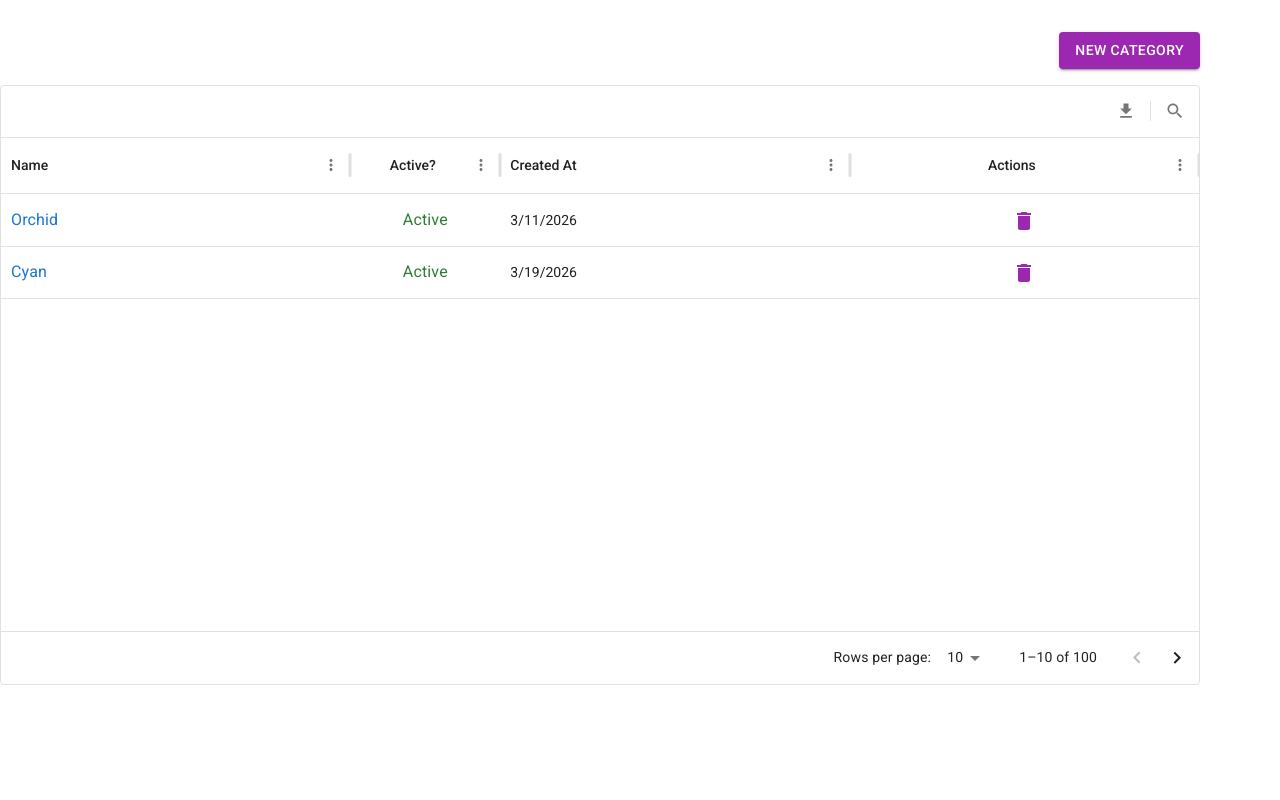
Test: CategoryList › should handle Delete Category error
Expected: the text "Orchid" is shown, [11,208,58,232]
Click the button with test id "delete-button" in the row of "Cyan": (1024,273) [1004,253,1044,293]
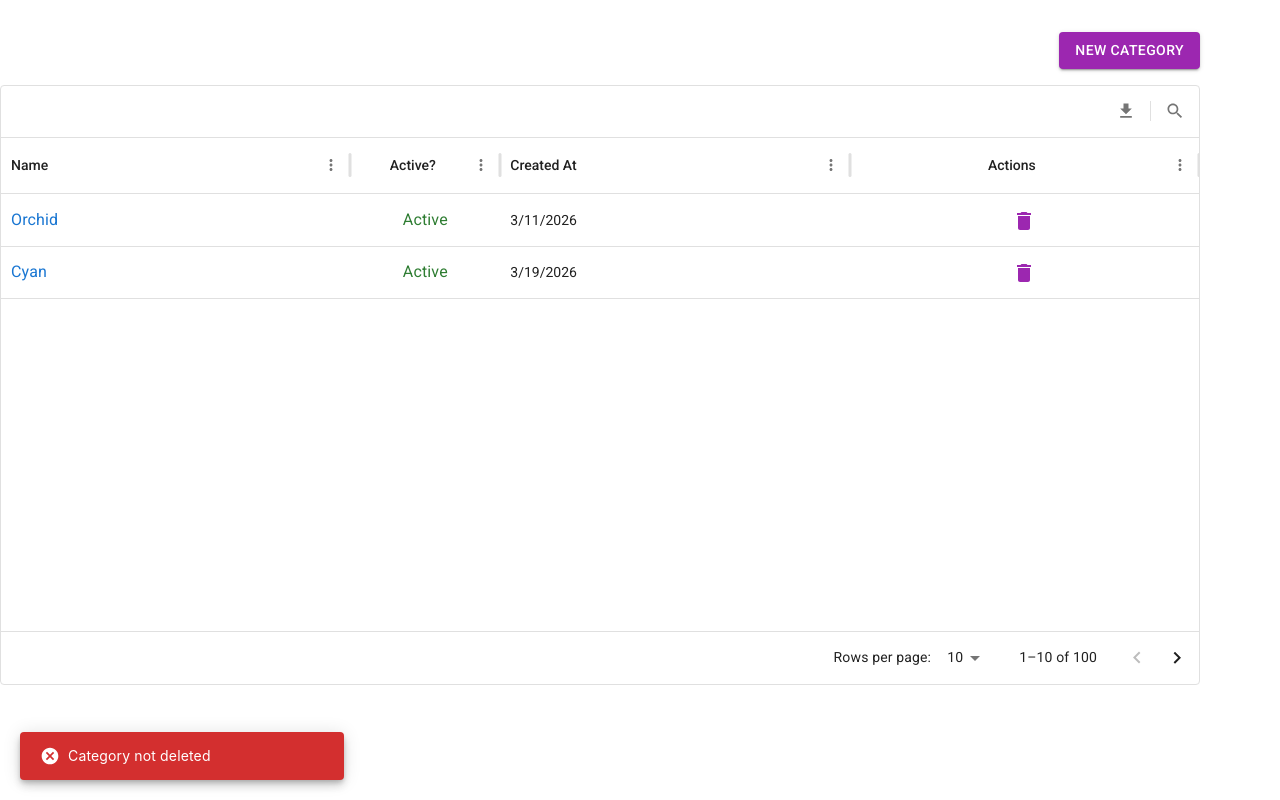
Result: the text "Category not deleted" is shown at [40,746,211,766]
